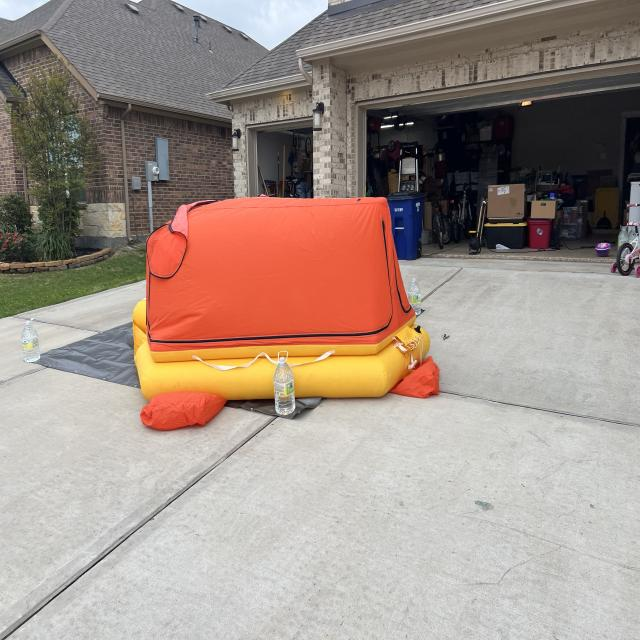Multi-person_life_raft: (132, 192, 440, 431)
